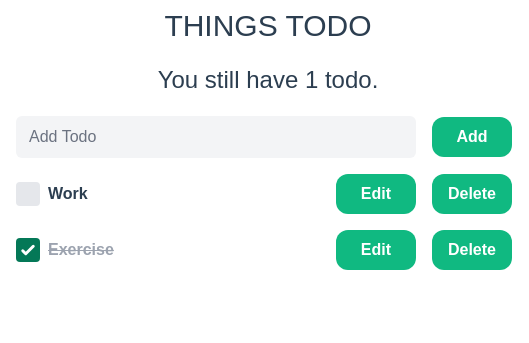
Test case: TodoList.vue › add todo successfully
The width and height of the screenshot is (529, 343).
Expected: the button "Add" is shown, [432, 117, 512, 157]
Type "Todo test" into the field with placeholder "Add Todo".
click(216, 137); type("Todo test")  # box [16, 116, 416, 158]
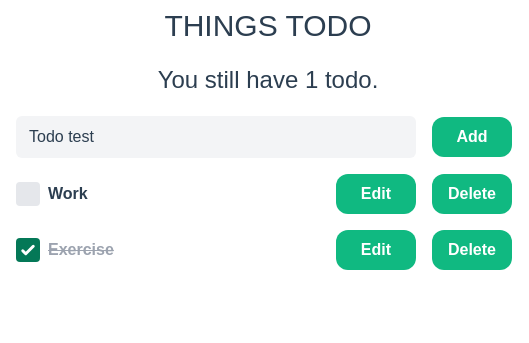
Click the button "Add".
click(472, 137)  # box [432, 117, 512, 157]
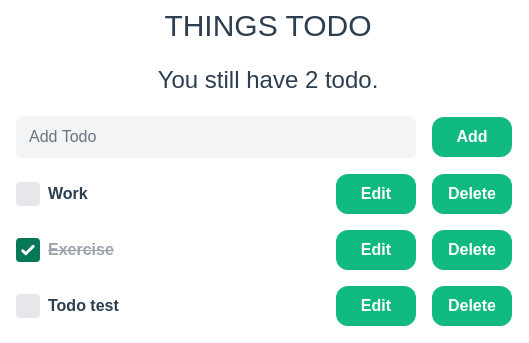
Result: the field with placeholder "Add Todo" is empty at [16, 116, 416, 158]
Result: the checkbox labelled "Todo test" is not checked at [16, 294, 40, 318]
